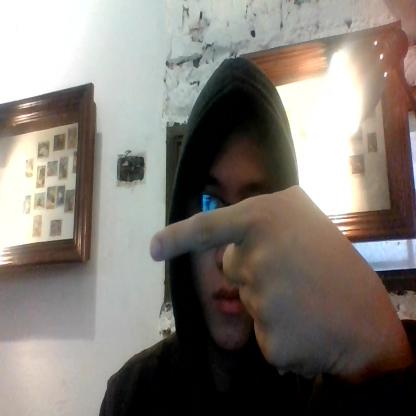right: (149, 181, 372, 370)
